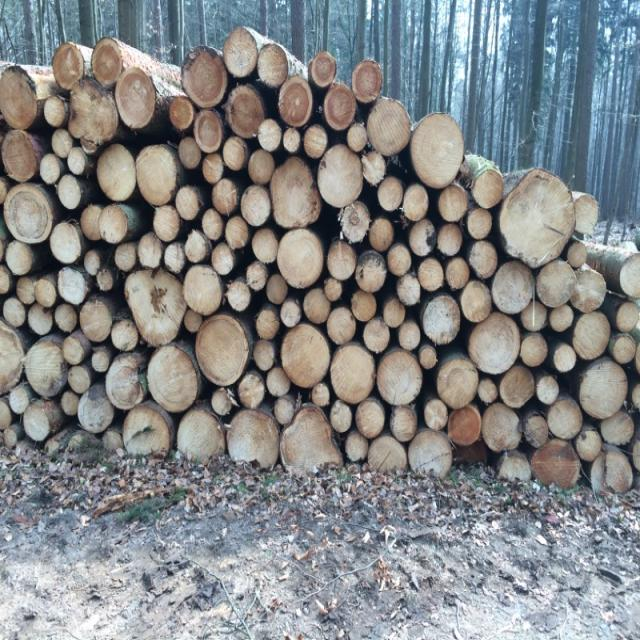wood-log: (500, 171, 575, 263), (125, 268, 187, 344), (280, 404, 341, 472), (408, 114, 463, 187), (196, 316, 250, 388), (270, 159, 322, 231), (145, 344, 200, 411), (280, 325, 330, 389), (470, 312, 521, 374), (68, 85, 119, 146), (2, 182, 52, 244), (229, 410, 281, 468), (317, 147, 366, 208), (579, 359, 628, 418), (330, 342, 376, 402), (376, 349, 424, 406), (277, 228, 323, 287), (182, 50, 229, 107), (136, 146, 180, 206), (176, 407, 224, 461), (367, 101, 413, 157), (24, 337, 67, 396), (533, 440, 581, 490), (115, 72, 157, 129), (406, 429, 452, 481), (96, 145, 137, 203), (0, 70, 37, 132), (438, 358, 481, 410), (490, 261, 532, 313), (181, 264, 223, 314), (420, 294, 460, 346), (481, 402, 522, 452), (2, 130, 41, 182), (226, 87, 265, 137), (572, 313, 612, 361), (220, 31, 259, 79), (538, 262, 577, 310), (79, 389, 117, 435), (569, 266, 606, 312), (278, 79, 312, 128), (324, 85, 358, 134), (500, 364, 536, 409), (53, 43, 87, 90), (0, 323, 23, 392), (80, 299, 116, 343), (22, 400, 58, 442), (49, 222, 84, 265), (259, 45, 293, 89), (369, 436, 407, 474), (448, 405, 482, 445), (548, 399, 582, 439), (461, 279, 493, 321), (240, 185, 272, 227), (473, 168, 507, 206), (352, 62, 384, 102), (340, 201, 370, 243), (326, 242, 357, 282), (356, 254, 387, 293), (58, 268, 90, 305), (194, 111, 222, 153), (468, 240, 498, 279), (357, 399, 386, 439), (600, 410, 634, 444), (328, 307, 358, 345), (303, 287, 333, 325), (4, 240, 35, 276), (154, 205, 183, 243), (100, 206, 128, 245), (440, 185, 470, 221), (238, 373, 267, 410), (363, 316, 391, 352), (251, 228, 279, 264), (212, 179, 239, 216), (168, 96, 195, 132), (137, 232, 163, 269), (403, 184, 429, 221), (248, 148, 275, 183), (311, 53, 338, 88), (392, 406, 418, 442), (176, 134, 202, 170), (57, 176, 83, 212), (110, 321, 139, 353), (520, 333, 548, 366), (378, 178, 405, 212), (226, 214, 252, 249), (351, 291, 378, 324), (417, 260, 444, 293), (185, 230, 211, 264), (210, 242, 236, 276), (223, 136, 249, 170), (360, 150, 386, 184), (522, 412, 548, 446), (612, 335, 640, 366), (173, 188, 200, 220), (371, 218, 396, 252), (42, 94, 67, 128), (620, 256, 640, 298), (266, 365, 292, 397), (466, 209, 492, 241), (576, 429, 602, 461), (227, 280, 253, 312), (439, 224, 465, 256), (258, 120, 283, 153), (257, 307, 282, 340), (447, 258, 471, 292), (386, 247, 412, 278), (521, 300, 547, 331), (330, 402, 354, 435), (305, 125, 329, 158), (27, 304, 52, 335), (38, 153, 62, 185), (398, 274, 422, 306), (424, 398, 448, 430), (2, 297, 26, 328), (344, 432, 368, 463), (553, 343, 577, 374), (275, 393, 299, 424), (549, 303, 575, 331), (618, 300, 640, 333), (54, 302, 78, 332), (536, 376, 560, 406), (62, 335, 86, 365), (254, 340, 277, 371), (201, 209, 224, 240), (68, 364, 92, 393), (267, 274, 290, 304), (398, 321, 421, 351), (164, 244, 187, 274), (203, 153, 225, 184), (384, 300, 408, 328), (116, 242, 138, 272), (280, 299, 302, 328), (8, 384, 30, 413), (211, 389, 235, 415), (246, 263, 266, 293), (36, 276, 56, 306), (53, 129, 74, 157), (346, 124, 367, 152), (388, 318, 413, 340), (478, 378, 498, 405), (283, 126, 302, 154), (67, 149, 86, 175), (61, 390, 80, 416), (311, 381, 330, 406), (96, 268, 115, 292), (183, 310, 202, 334), (325, 278, 344, 301), (420, 345, 437, 369), (630, 435, 640, 472), (0, 267, 12, 296), (0, 400, 11, 431), (0, 176, 9, 205), (632, 382, 640, 409)
